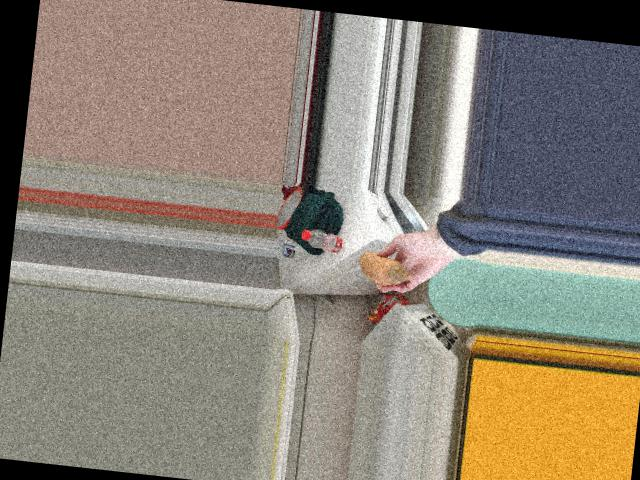sweet_potato: (355, 254, 415, 286)
